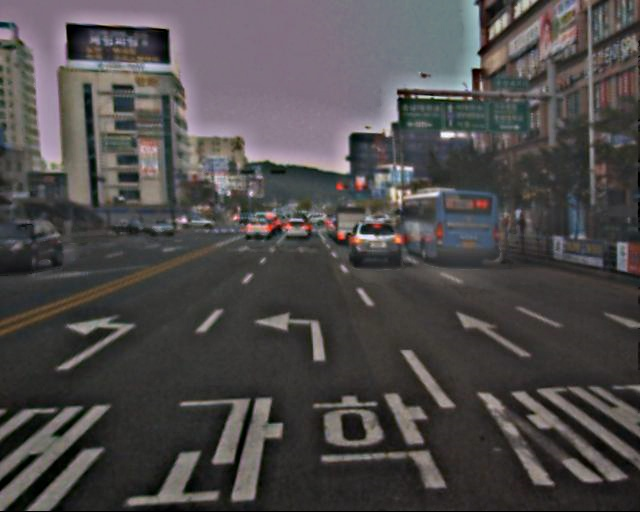person: (516, 213, 529, 244)
